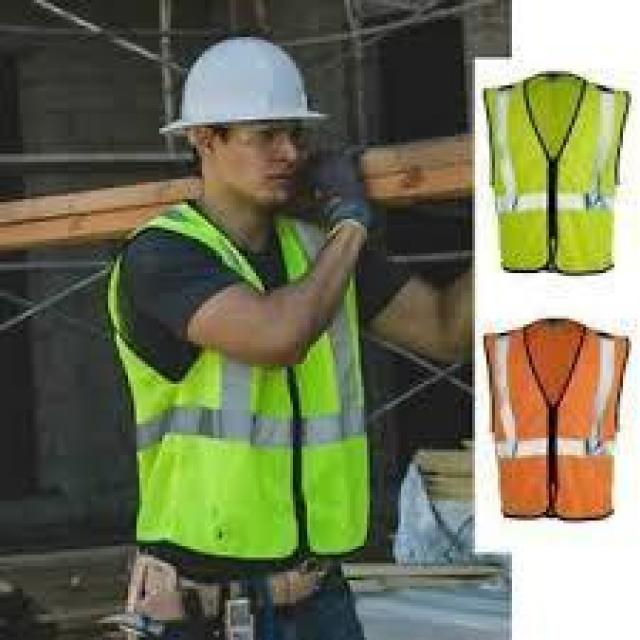helmet: (159, 37, 330, 139)
